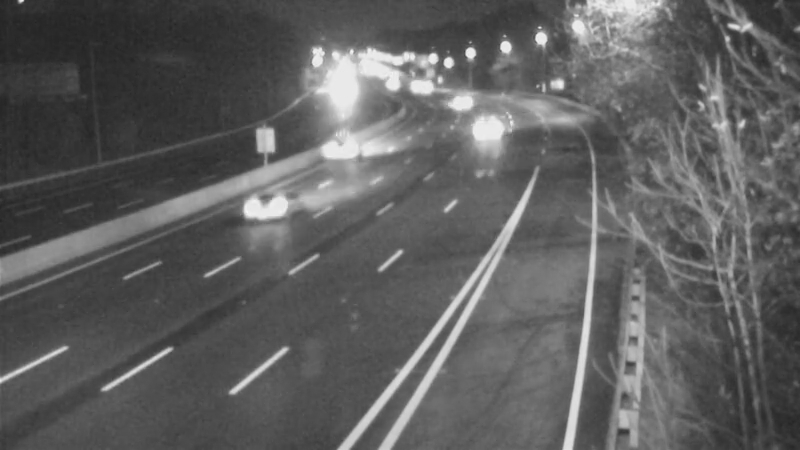vehicle: (231, 158, 311, 238), (436, 70, 486, 120), (466, 99, 516, 149), (326, 123, 376, 173)
